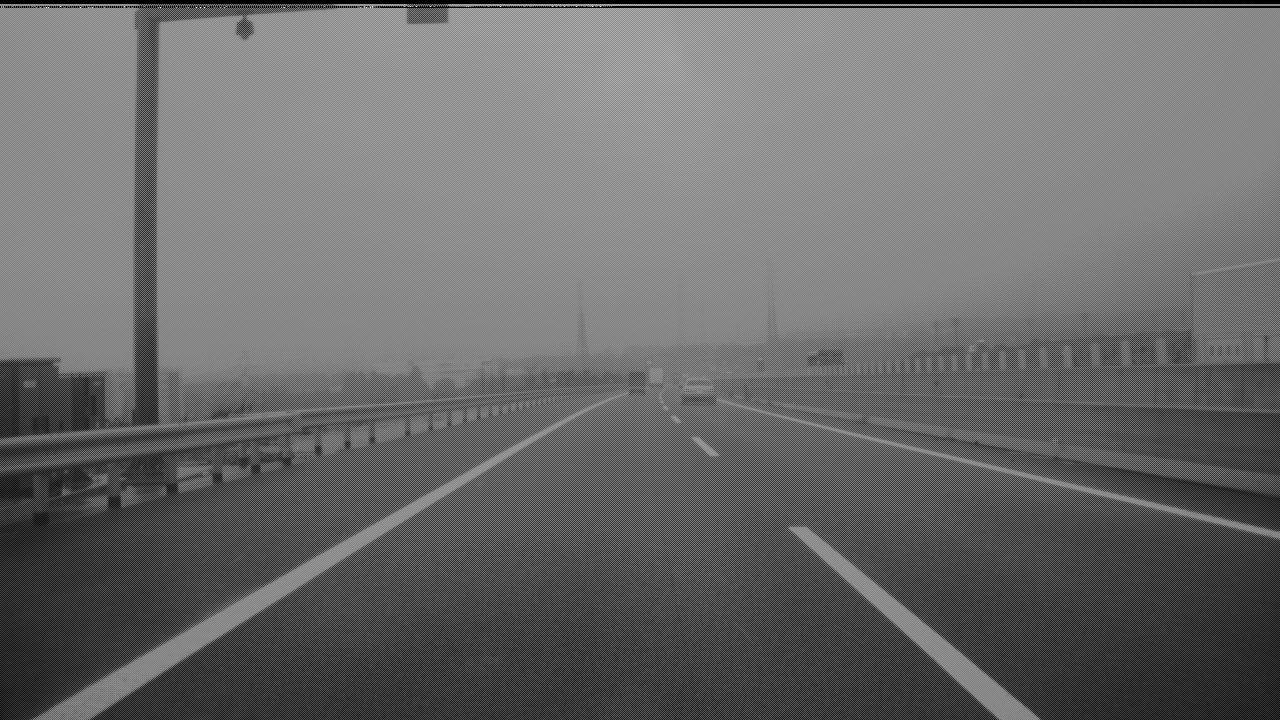pole: (131, 1, 163, 424)
